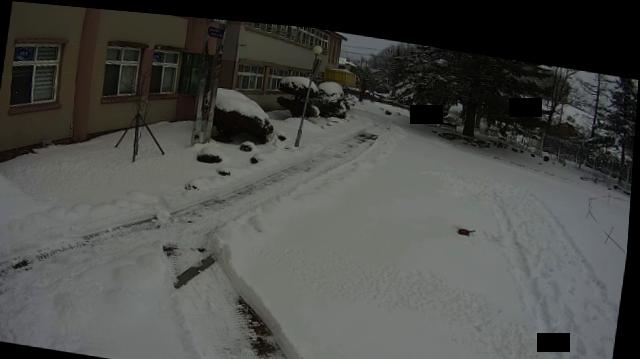fire: (464, 220, 469, 223)
